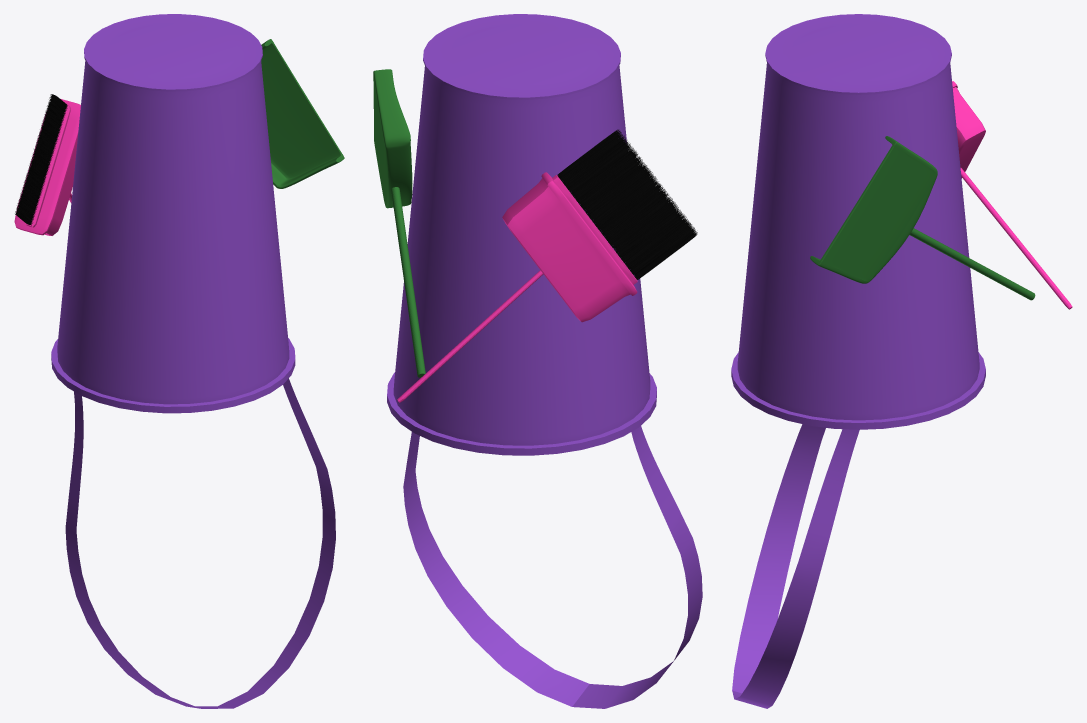
File: MonsterCleanup.glb
3 views of the same model, side by side, from view 1: azimuth 30°, elevation 25°; view 2: azimuth 150°, elevation 25°; view 3: azimuth 270°, elevation 25° (orthographic). The views are drawn at different scales.
Visible parts, largest first — view 1: 모자, 모자_끈, 쓰레받이머리, 빗자루; view 2: 모자, 빗자루, 모자_끈, 쓰레받이머리; view 3: 모자, 모자_끈, 쓰레받이머리, 빗자루.
Boxes of the visible parts, left/top/right/bottom form: 모자: left=51, top=14, right=295, bottom=413; 모자_끈: left=65, top=378, right=335, bottom=708; 쓰레받이머리: left=261, top=39, right=344, bottom=188; 빗자루: left=14, top=94, right=80, bottom=235; 모자: left=387, top=14, right=656, bottom=455; 빗자루: left=397, top=129, right=697, bottom=402; 모자_끈: left=403, top=426, right=702, bottom=708; 쓰레받이머리: left=373, top=69, right=425, bottom=377; 모자: left=731, top=14, right=985, bottom=429; 모자_끈: left=732, top=424, right=859, bottom=708; 쓰레받이머리: left=810, top=136, right=1035, bottom=300; 빗자루: left=952, top=81, right=1072, bottom=309.
Bounding box in the file's own units: 4.09 × 7.81 × 3.73.
